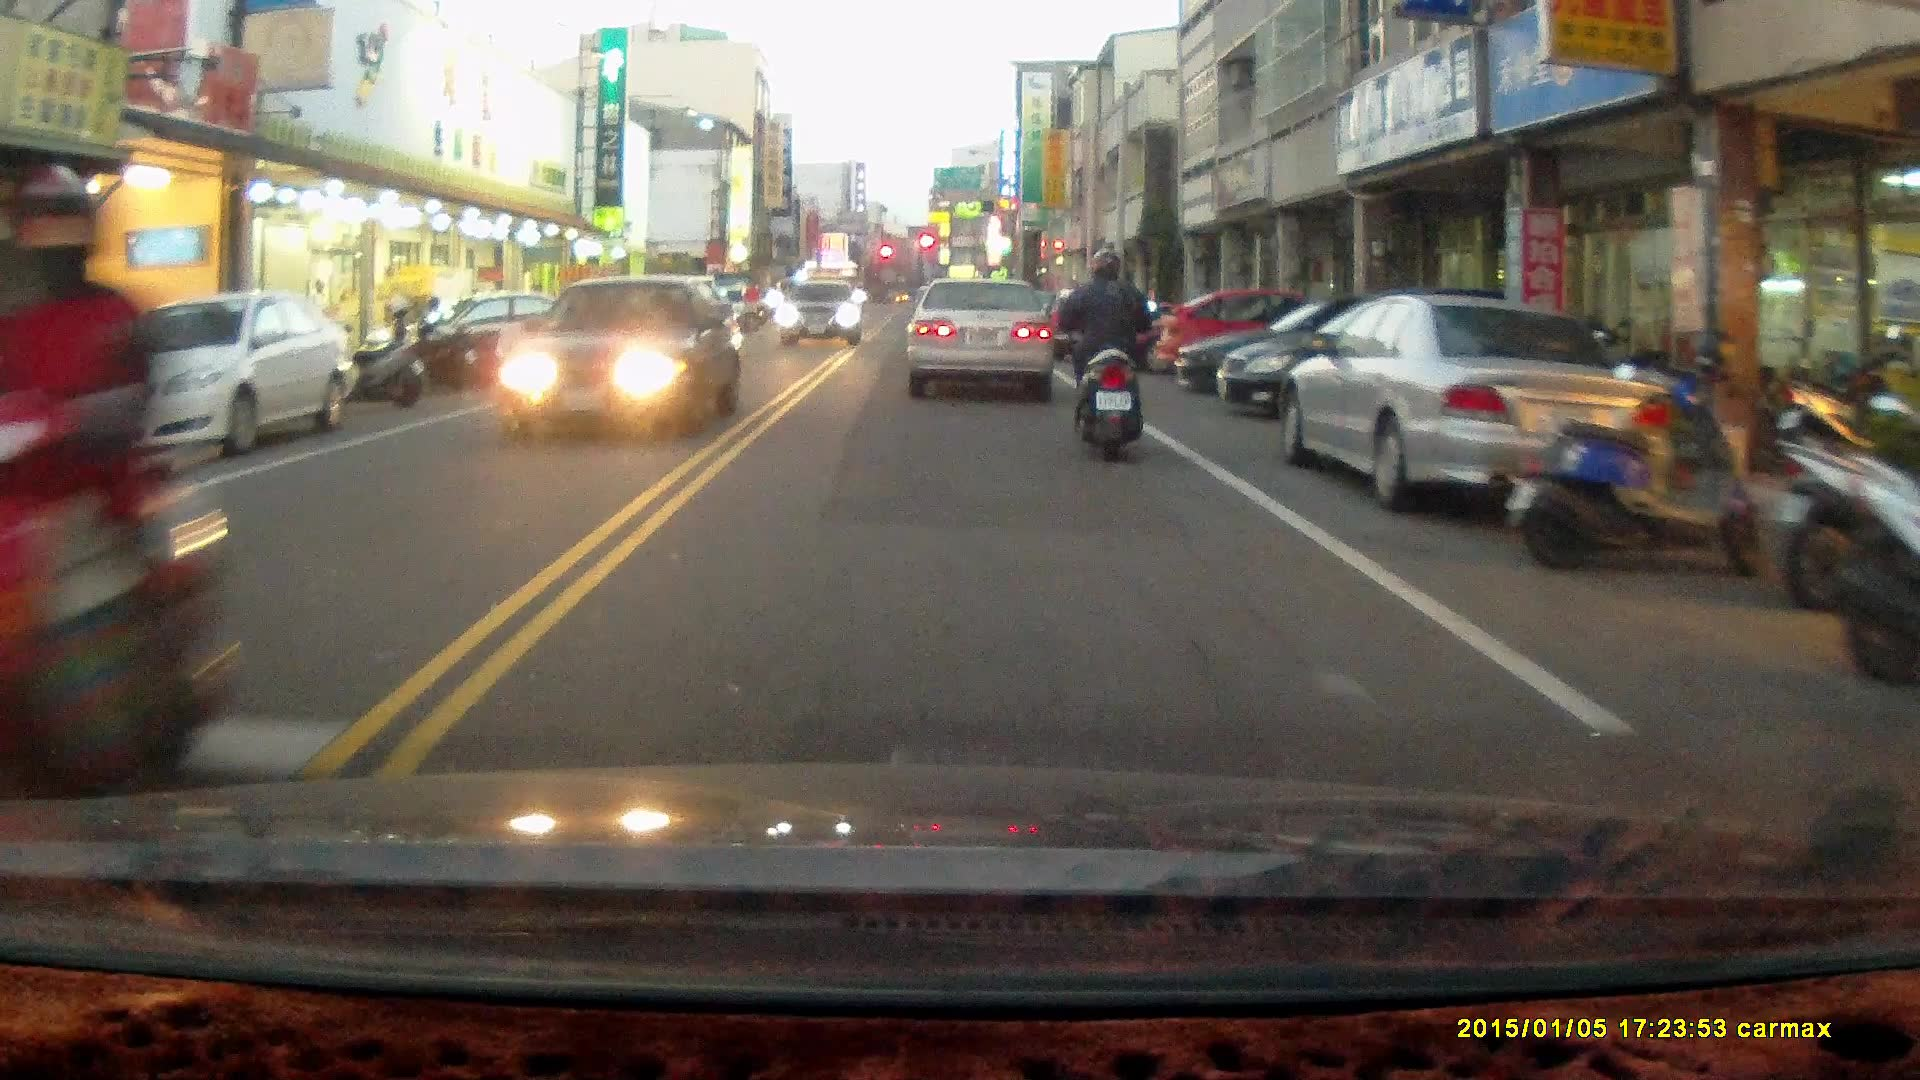pedestrian: (303, 277, 331, 351)
rider: (0, 160, 242, 837), (1052, 249, 1160, 463), (739, 278, 762, 336)
vehicle: (1278, 298, 1672, 521), (53, 289, 362, 462), (1215, 296, 1526, 436), (500, 276, 743, 449), (1170, 308, 1489, 400), (1155, 296, 1393, 388), (904, 280, 1057, 400), (411, 294, 591, 384), (777, 291, 865, 358)
